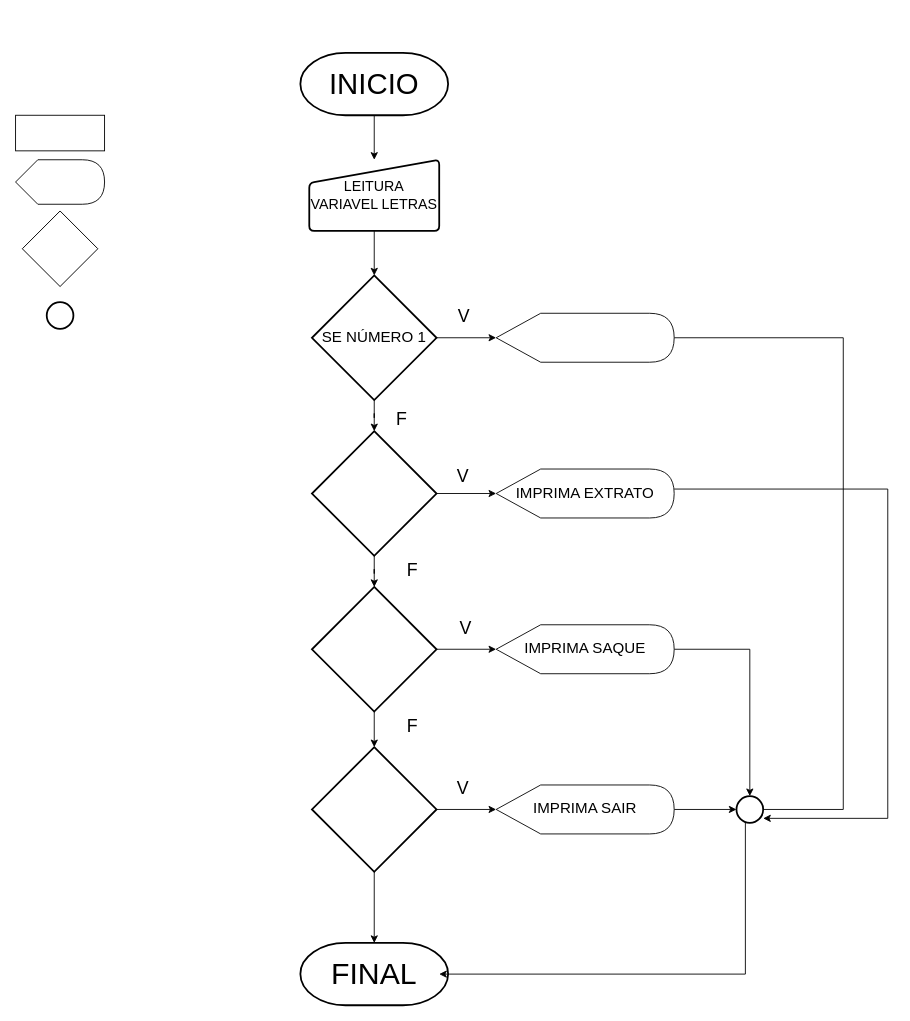
Some shapes in this 910 by 1021 pixel diagram are drawn without their labels. The shapes that lost their labels are listed below. From the top down, each one's centre as x and y in pixels, then its label:
At point 584,337: "IMPRIMA SALDO".
At point 374,493: "SE NÚMERO 2".
At point 374,649: "SE NUMERO 3".
At point 374,809: "SE NÚMERO 4".
